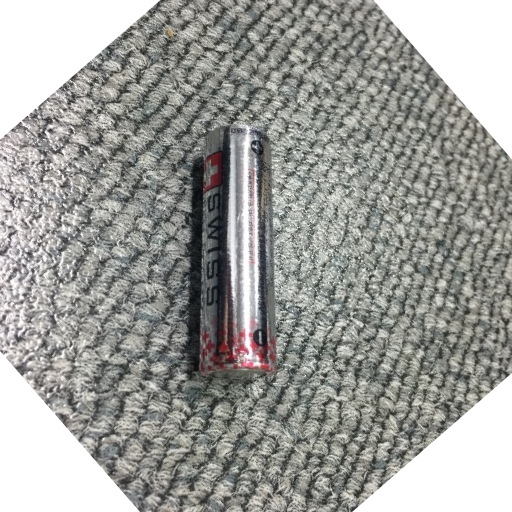Battery_0: (191, 118, 283, 385)
